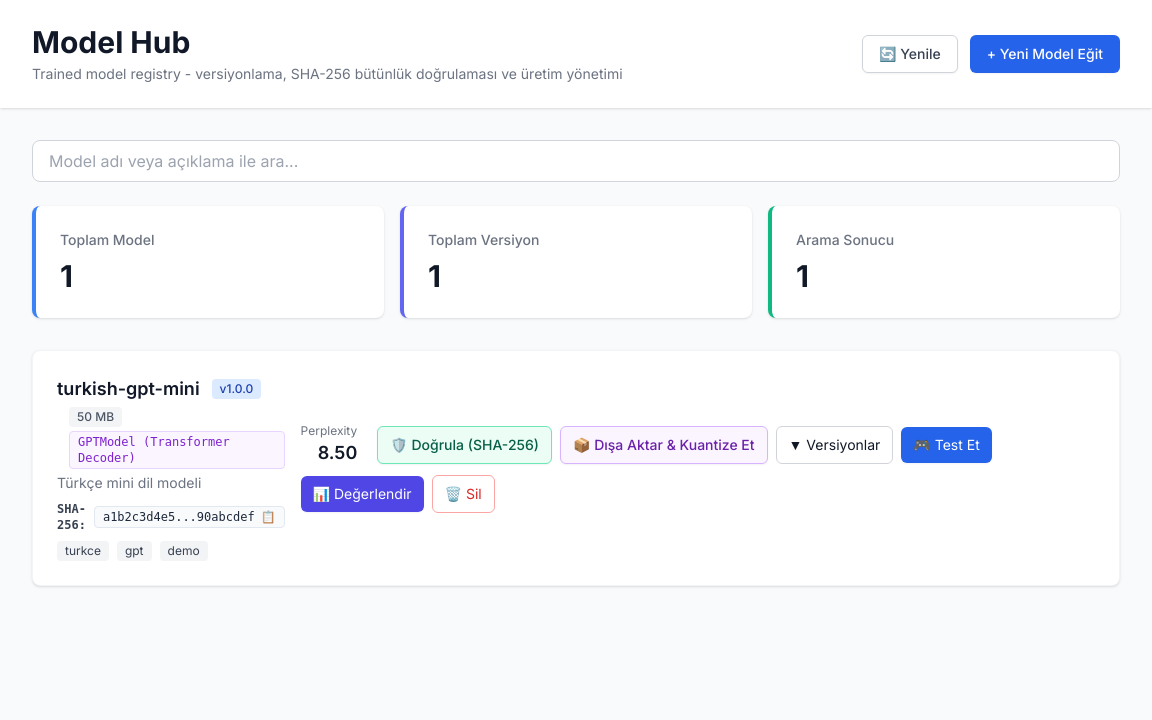
ModelsPage - Model Export & Quantization Pipeline › can close the export modal via close button
The image size is (1152, 720).
Click the button "📦 Dışa Aktar & Kuantize Et".
click(664, 445)  # box [560, 426, 768, 464]
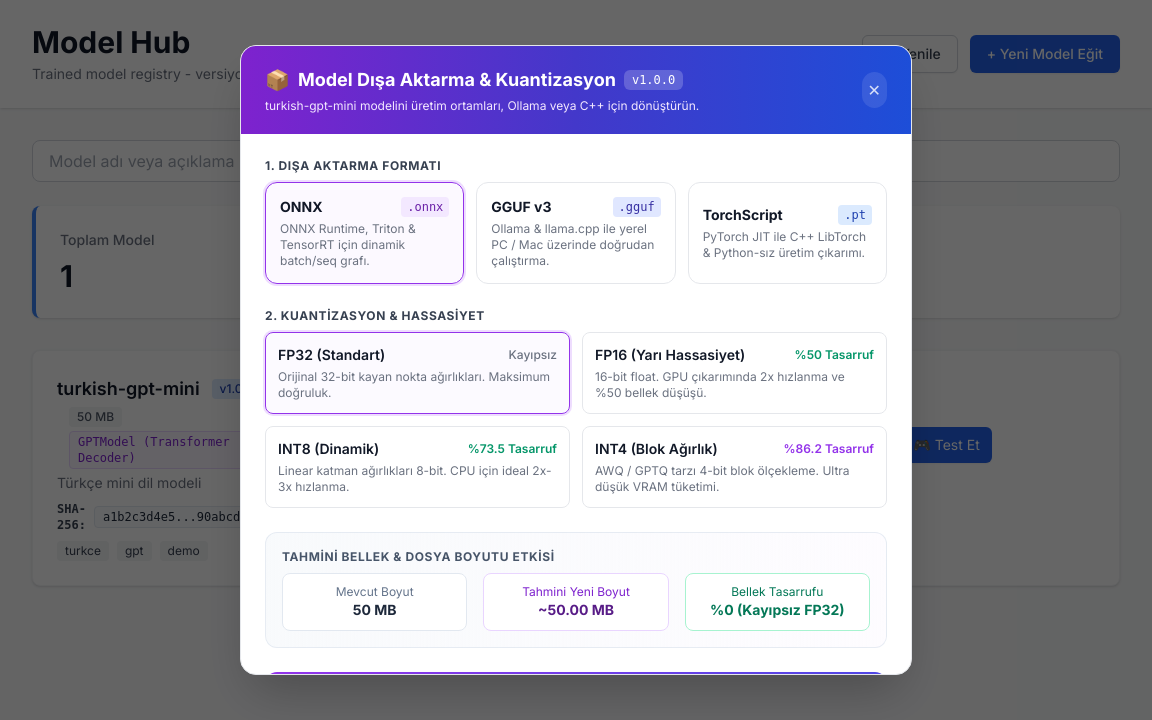
Now the heading "Model Dışa Aktarma & Kuantizasyon" is shown, box [298, 66, 616, 94]
Click the button titled "Kapat".
click(874, 90)  # box [862, 72, 887, 108]
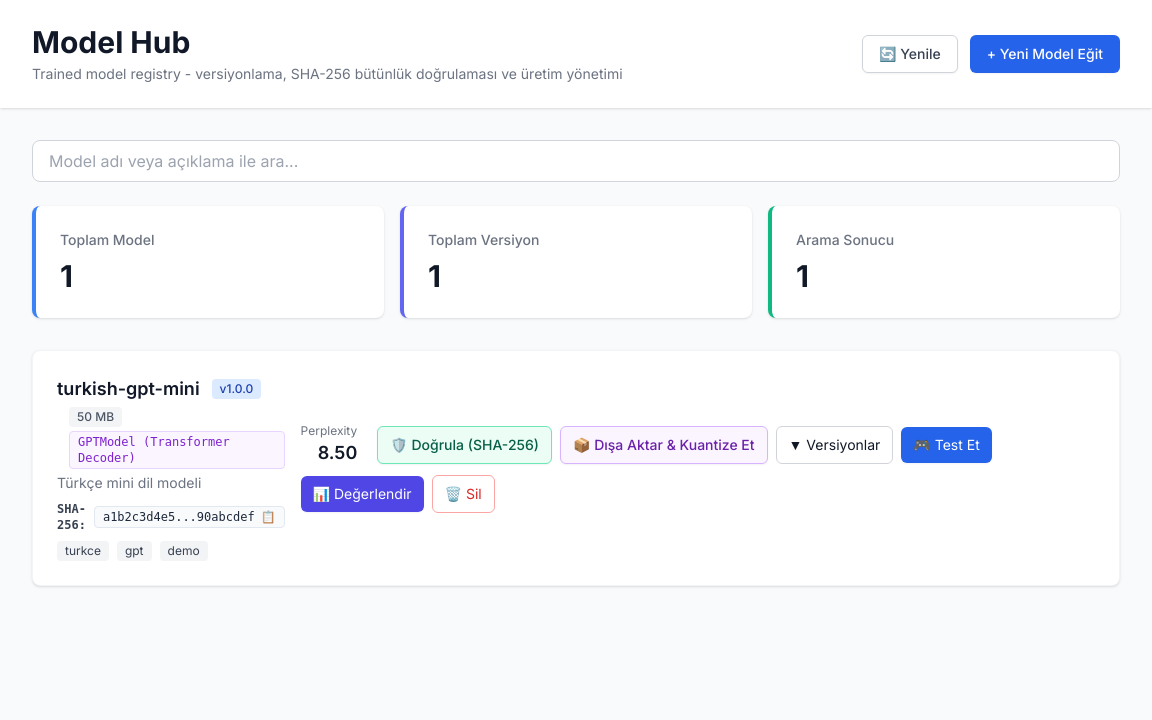
Now the heading "Model Dışa Aktarma & Kuantizasyon" is gone
